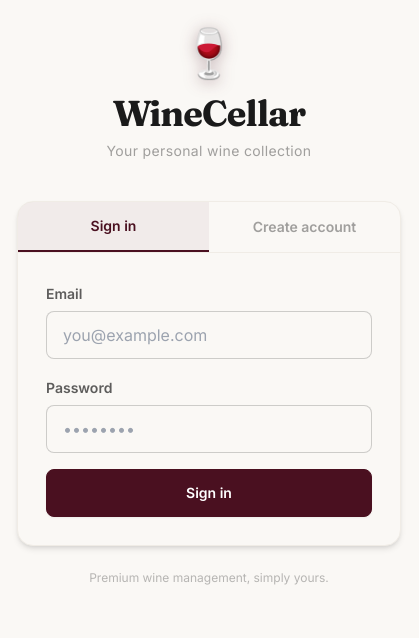
Scenario: LoginPage › shows field error when email is empty
The width and height of the screenshot is (419, 638).
Click the button with test id "login-btn".
click(209, 493)  # box [46,469,372,517]
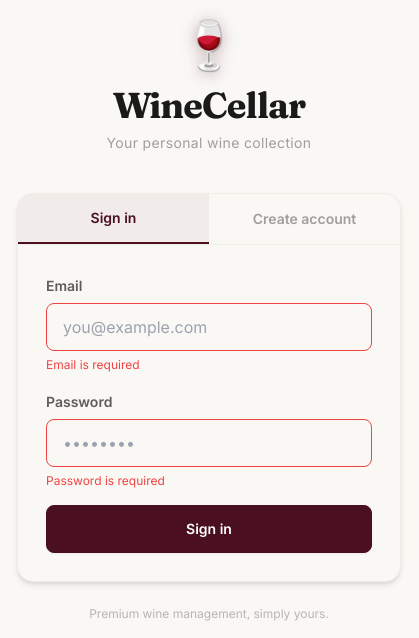
Expected: the text "Email is required" is shown, [46,357,140,372]
